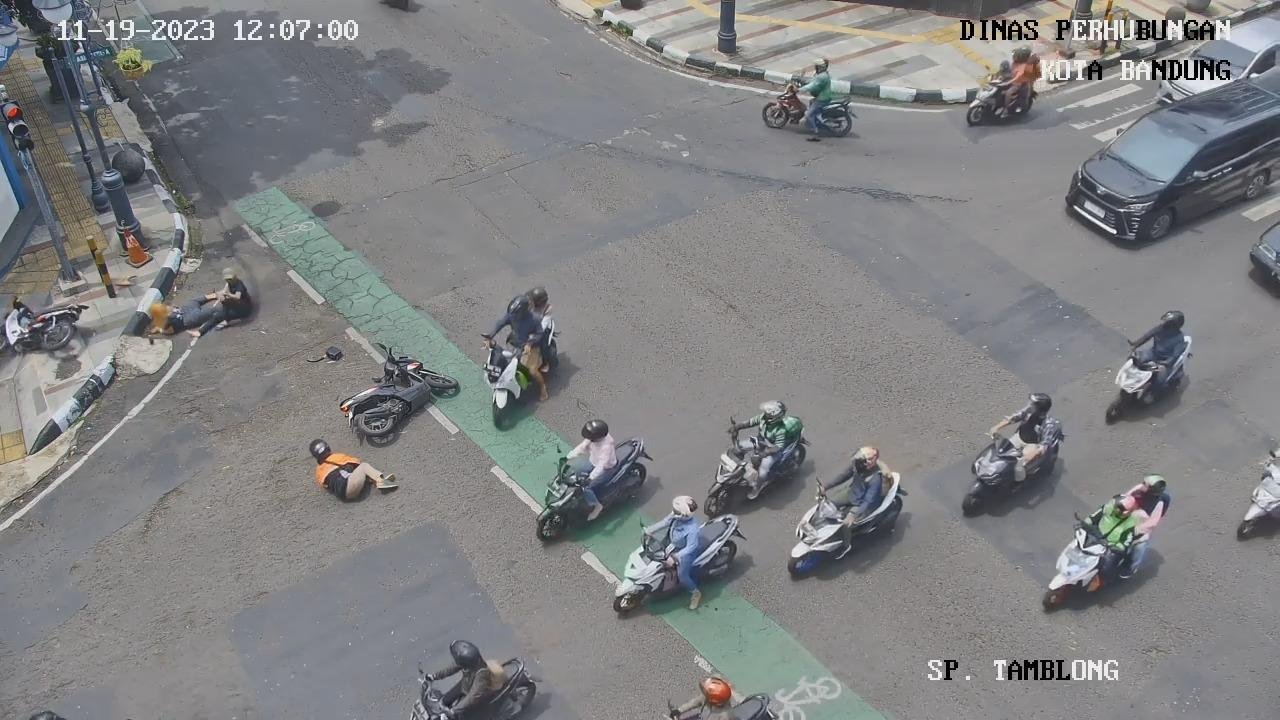accident: (293, 432, 404, 516), (200, 267, 269, 341), (139, 289, 207, 339)
